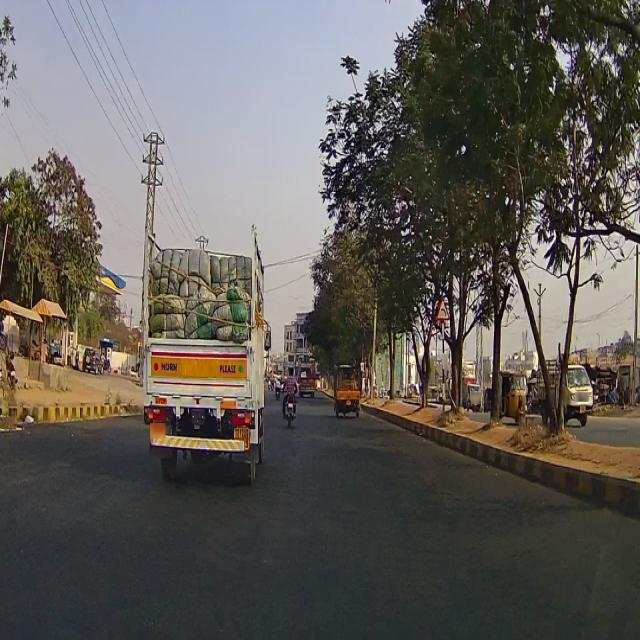left-hand-curve: (436, 298, 449, 320)
